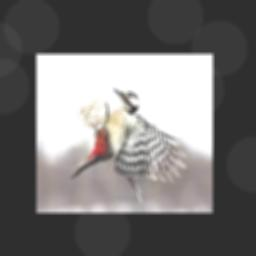Woodpecker: (70, 88, 187, 203)
